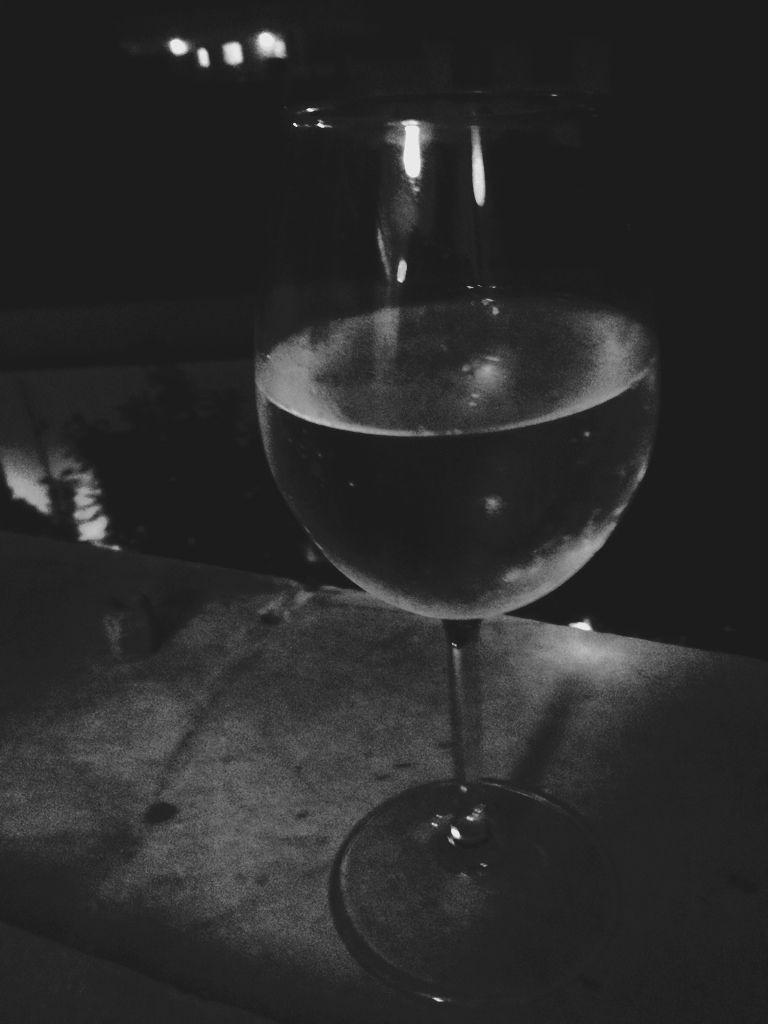glass-wine: (248, 68, 665, 1007)
